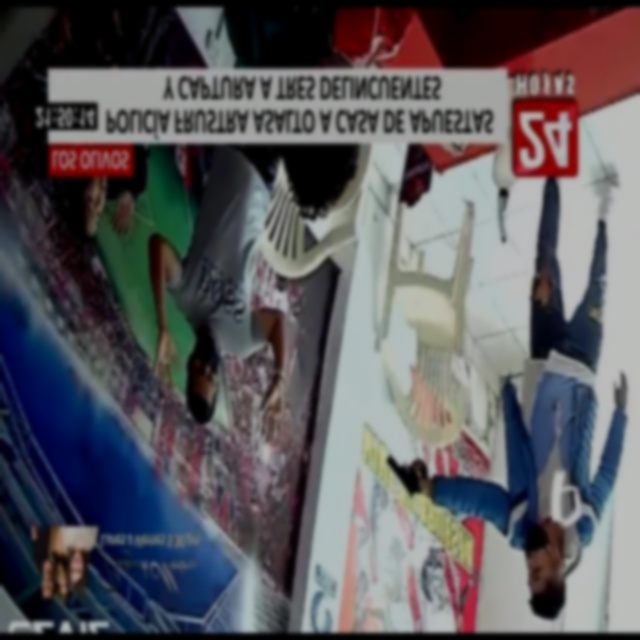gun: (376, 422, 434, 525)
